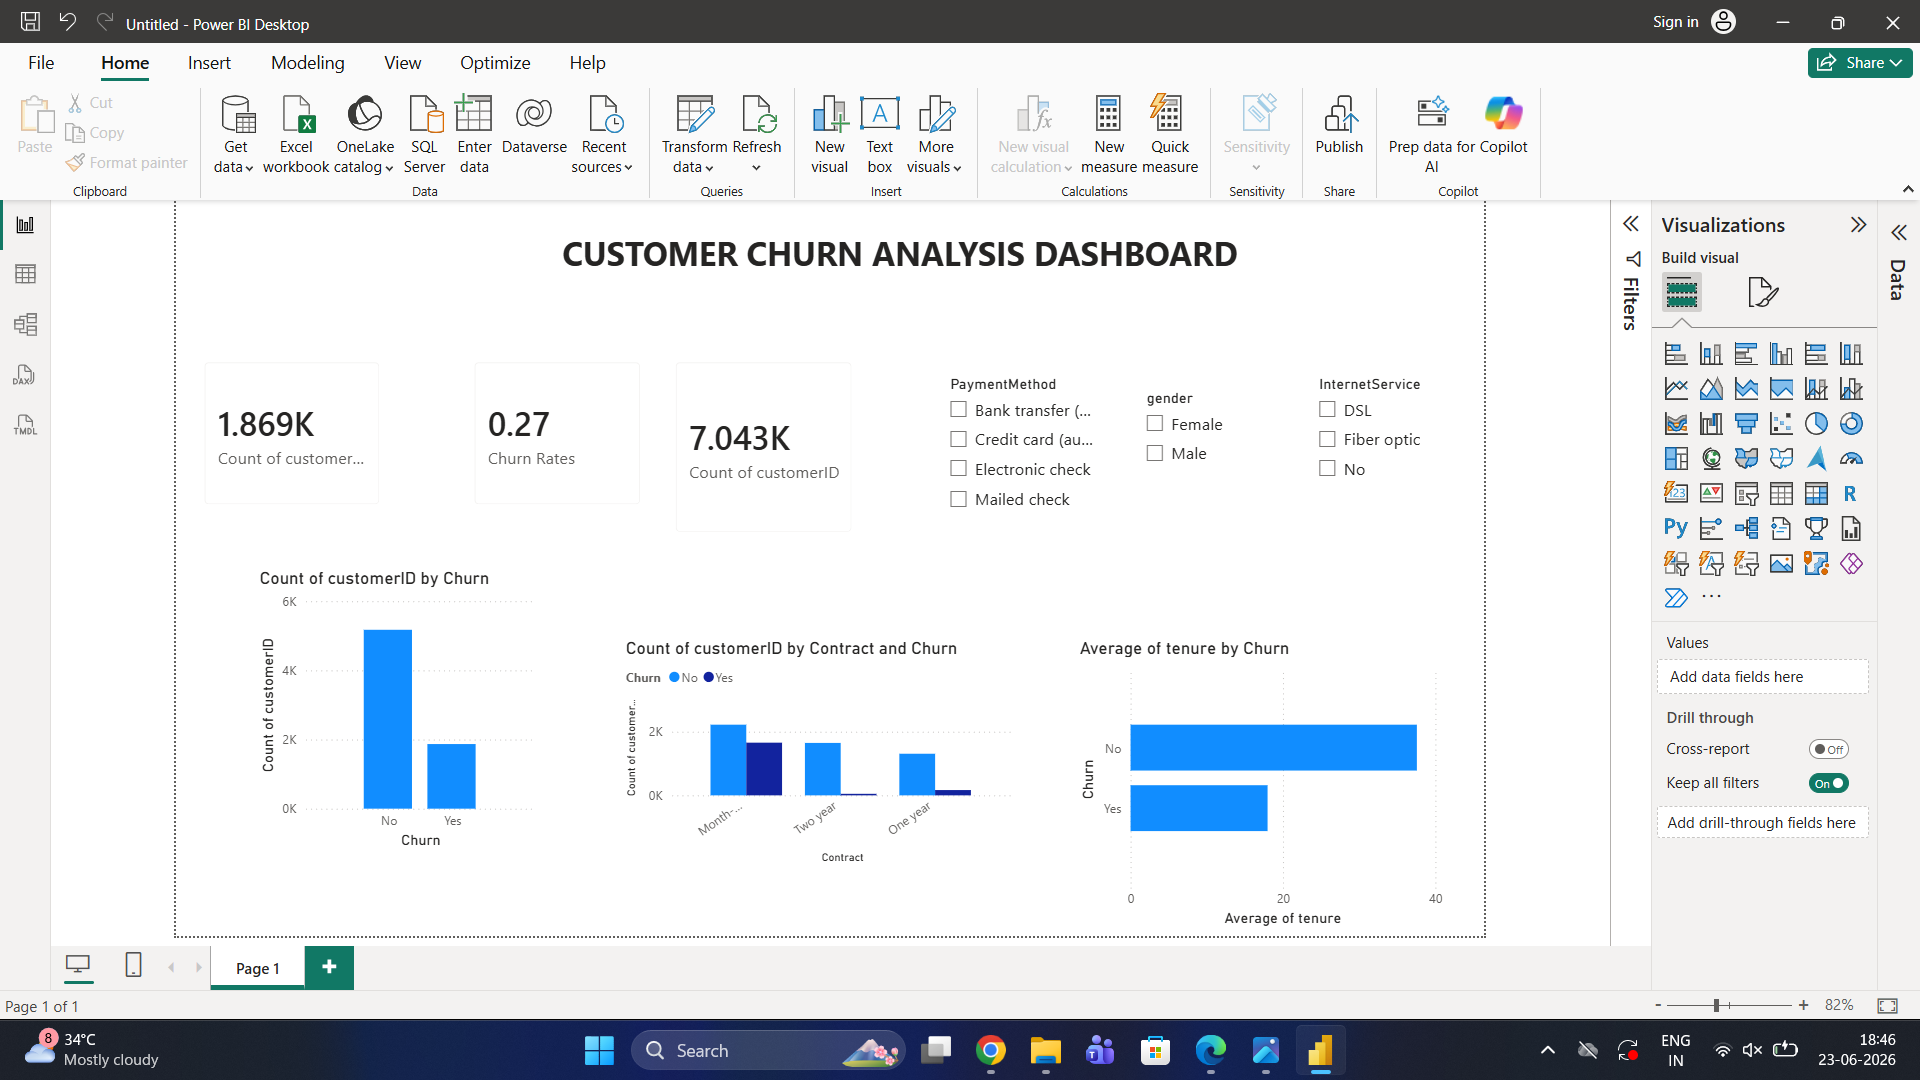

What the dashboard file says about the page in this screenshot:
{"tool":"powerbi","page":{"name":"Page 1","canvas":[1280,720],"ordinal":0},"visuals":[{"type":"clusteredColumnChart","fields":{"Category":["Customer_Churn_Cleaned xlsx.Churn"],"Y":["CountNonNull(Customer_Churn_Cleaned xlsx.customerID)"]},"box":[76.8,359.5,279.9,279.9],"z":0},{"type":"cardVisual","fields":{"Data":["CountNonNull(Customer_Churn_Cleaned xlsx.customerID)"]},"box":[472,141.8,206.7,200.5],"z":1000},{"type":"cardVisual","fields":{"Data":["CountNonNull(Customer_Churn_Cleaned xlsx.customerID)"]},"box":[11,141.8,205.4,173.6],"z":2000},{"type":"cardVisual","fields":{"Data":["Customer_Churn_Cleaned xlsx.Churn Rates"]},"box":[275.1,141.8,196.9,173.6],"z":3000},{"type":"clusteredBarChart","fields":{"Category":["Customer_Churn_Cleaned xlsx.Churn"],"Y":["Avg(Customer_Churn_Cleaned xlsx.tenure)"]},"box":[879.6,428.1,365,288.2],"z":4000},{"type":"clusteredColumnChart","fields":{"Category":["Customer_Churn_Cleaned xlsx.Contract"],"Y":["CountNonNull(Customer_Churn_Cleaned xlsx.customerID)"],"Series":["Customer_Churn_Cleaned xlsx.Churn"]},"box":[435,428.1,388.3,226.4],"z":5000},{"type":"slicer","fields":{"Values":["Customer_Churn_Cleaned xlsx.gender"]},"box":[936.7,179.8,159,97.8],"z":6000},{"type":"slicer","fields":{"Values":["Customer_Churn_Cleaned xlsx.PaymentMethod"]},"box":[744.7,166.3,159,149.2],"z":7000},{"type":"slicer","fields":{"Values":["Customer_Churn_Cleaned xlsx.InternetService"]},"box":[1105.4,166.3,159,149.2],"z":8000},{"type":"textbox","box":[1114,277,150,150],"z":9000},{"type":"textbox","box":[260.5,8.6,676.2,51.4],"z":10000},{"type":"textbox","box":[373,25.7,689.7,81.9],"z":11000}]}

Visuals, with their boxes on the page's 1280x720 design canvas (x1, y1, x2, y2). These are canvas units, not pixel positions in the 1920x1080 screenshot, which may show the page scaled, cropped or inside an application window:
clusteredColumnChart - Customer_Churn_Cleaned xlsx.Churn x CountNonNull(Customer_Churn_Cleaned xlsx.customerID): 77, 360, 357, 639
cardVisual - CountNonNull(Customer_Churn_Cleaned xlsx.customerID): 472, 142, 679, 342
cardVisual - CountNonNull(Customer_Churn_Cleaned xlsx.customerID): 11, 142, 216, 315
cardVisual - Customer_Churn_Cleaned xlsx.Churn Rates: 275, 142, 472, 315
clusteredBarChart - Customer_Churn_Cleaned xlsx.Churn x Avg(Customer_Churn_Cleaned xlsx.tenure): 880, 428, 1245, 716
clusteredColumnChart - Customer_Churn_Cleaned xlsx.Contract x CountNonNull(Customer_Churn_Cleaned xlsx.customerID): 435, 428, 823, 654
slicer - Customer_Churn_Cleaned xlsx.gender: 937, 180, 1096, 278
slicer - Customer_Churn_Cleaned xlsx.PaymentMethod: 745, 166, 904, 316
slicer - Customer_Churn_Cleaned xlsx.InternetService: 1105, 166, 1264, 316
textbox: 1114, 277, 1264, 427
textbox: 260, 9, 937, 60
textbox: 373, 26, 1063, 108
